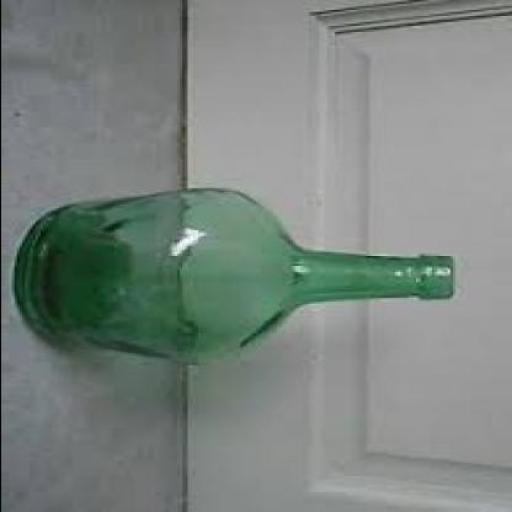glass: (16, 186, 454, 362)
